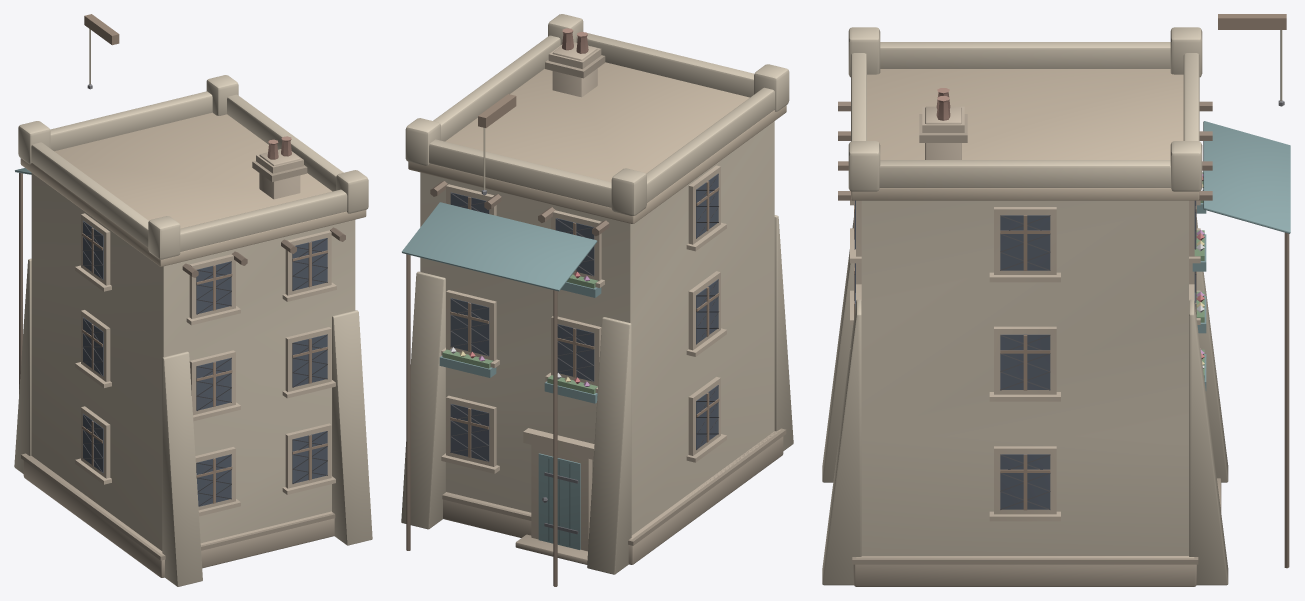
Rendered from townhouse_sun.gltf.
3 views of the same model, side by side, from view 1: azimuth 30°, elevation 25°; view 2: azimuth 150°, elevation 25°; view 3: azimuth 270°, elevation 25° (orthographic). The views are drawn at different scales.
Visible parts, largest first — view 1: Body; view 2: Body; view 3: Body.
Boxes of the visible parts, x1,y1,x2,y2 form: Body: (14,14,372,586); Body: (401,14,793,586); Body: (822,14,1290,586).
Size of the model in its own units: 5.7 by 10.67 by 8.87.
